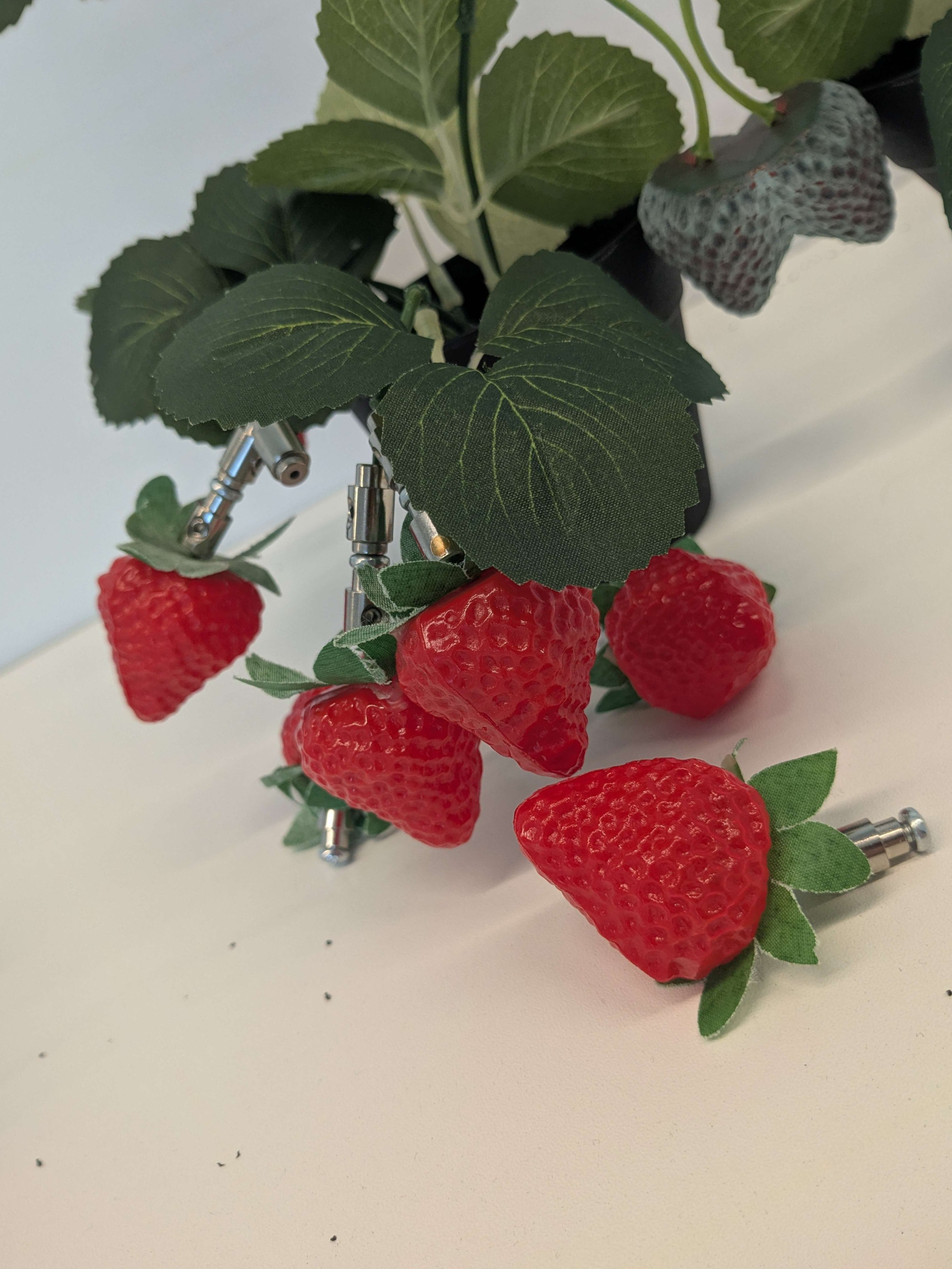Strawberry: (485, 672, 848, 1042), (363, 523, 668, 832), (12, 463, 316, 756), (258, 606, 538, 907), (578, 509, 829, 750)
